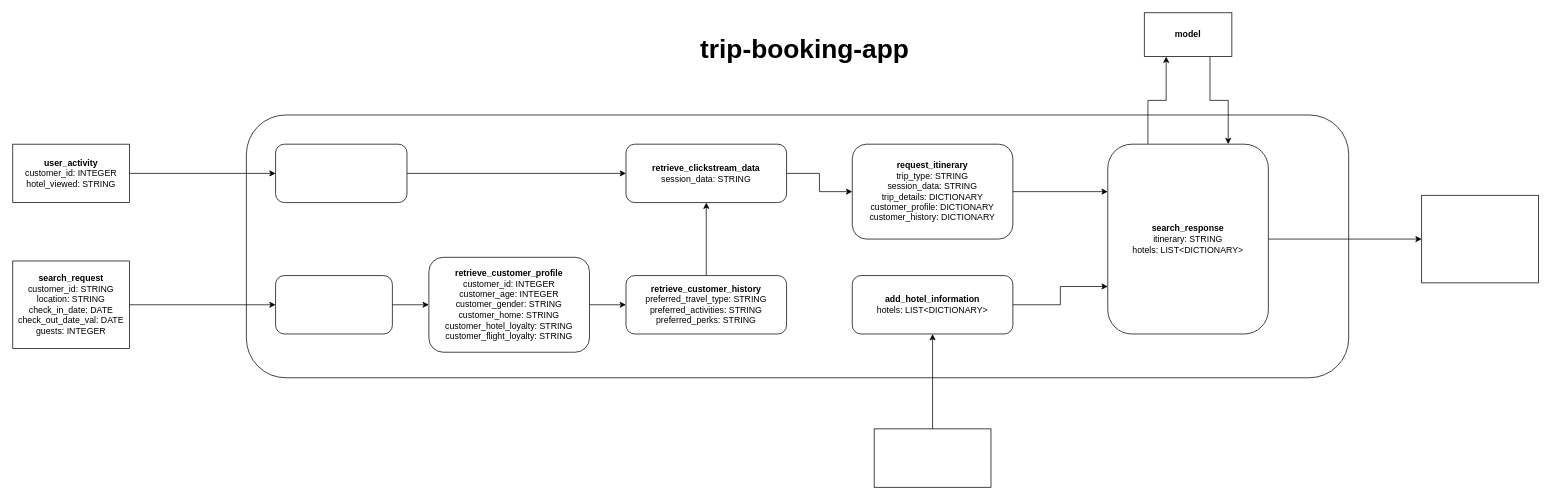
Some shapes in this 1551 by 500 pixel diagram are drawn without their labels. The shapes that lost their labels are listed below. From the top down, each one's box as (x1, y1, x2, y2) in pixels, then its label:
(275, 143, 407, 203): add_user_session customer_id: STRING hotels_viewed: LIST<STRING>
(1421, 195, 1538, 283): search_response
(275, 275, 392, 334): determine_trip_type trip_type: STRING
(873, 428, 991, 487): hotel location: STRING hotel: STRING price: STRING room_size: INTEGER
